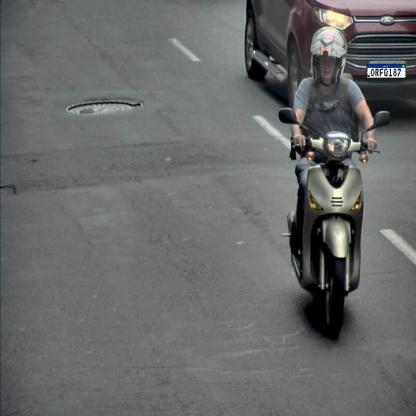PlacaM: (367, 64, 406, 78)
